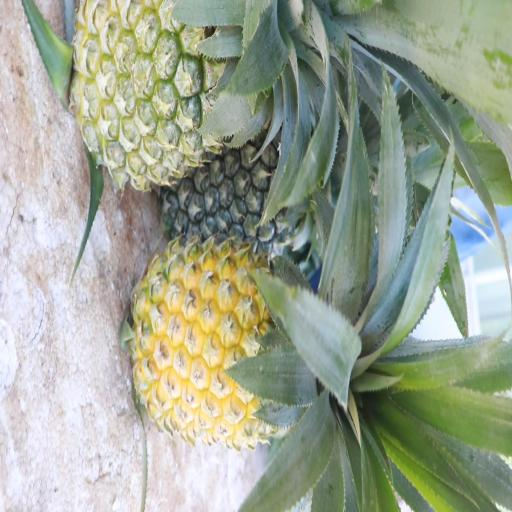------------------------------: (77, 0, 297, 184)
Pineapple - v8 v1: (133, 239, 377, 450)
